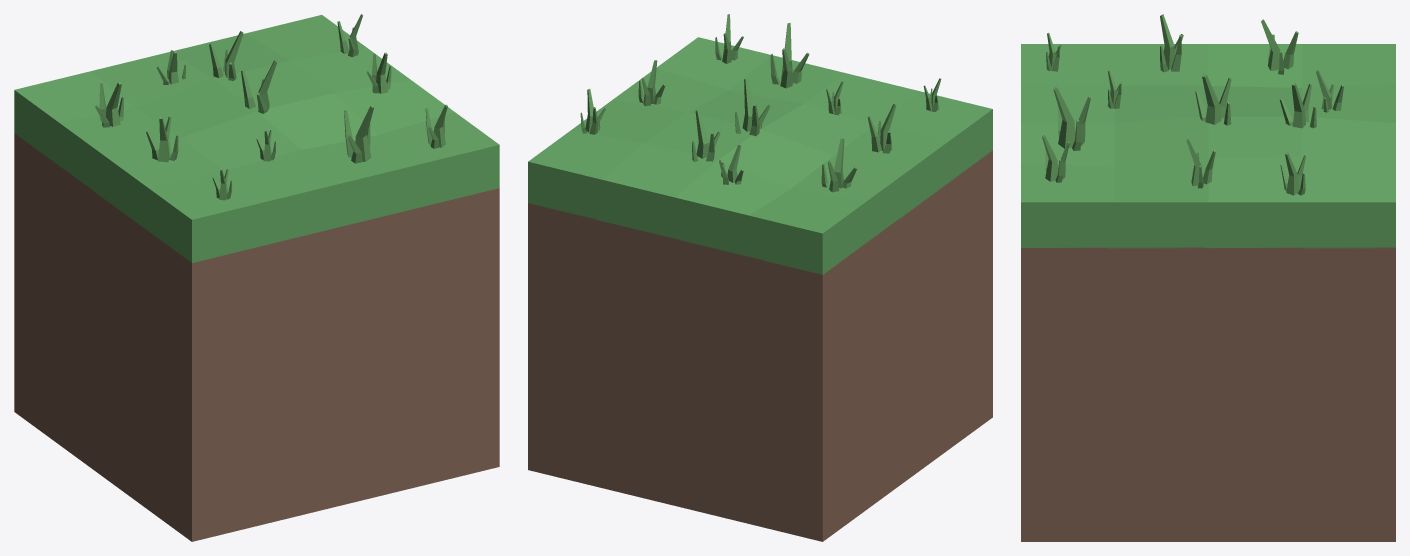
File: 02 Grass Single Low.fbx
The picture shows the model from 3 angles, left to right: view 1: azimuth 30°, elevation 25°; view 2: azimuth 150°, elevation 25°; view 3: azimuth 270°, elevation 25°; orthographic projection. The views are drawn at different scales.
Parts seen in each view (by area): view 1: 02 Grass Single Low; view 2: 02 Grass Single Low; view 3: 02 Grass Single Low.
Part boxes in pixels (x1,y1,x2,y2): 02 Grass Single Low: (14, 14, 499, 541); 02 Grass Single Low: (528, 14, 992, 541); 02 Grass Single Low: (1021, 14, 1395, 541).
Size of the model in its own units: 100 by 117 by 100.
Materials: 1 (1 with a texture image).
